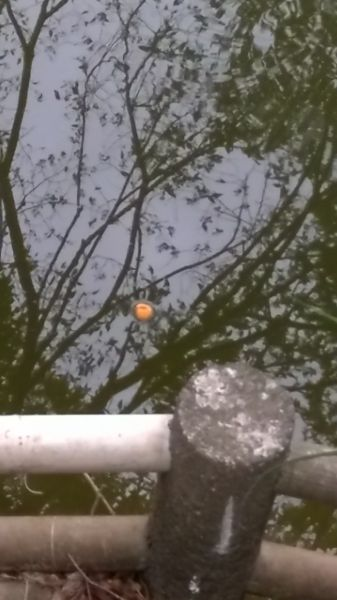eggs: (130, 299, 159, 323)
